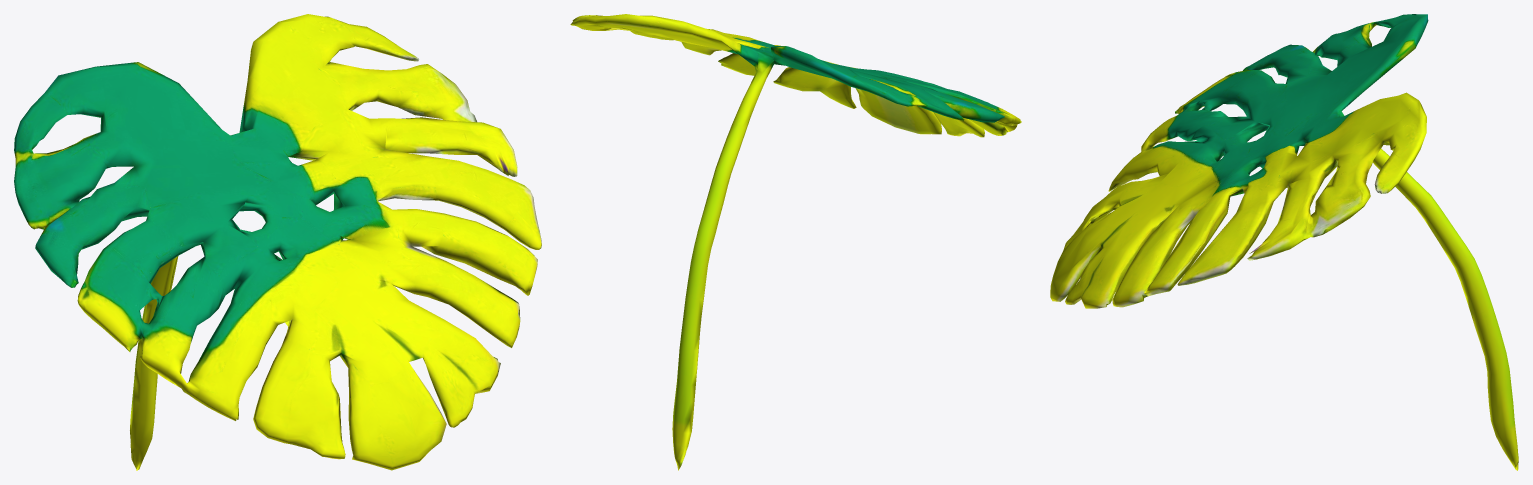
The model's file is mon_variegata_gold_v1.glb.
3 views of the same model, side by side, from view 1: azimuth 30°, elevation 25°; view 2: azimuth 150°, elevation 25°; view 3: azimuth 270°, elevation 25° (orthographic). The views are drawn at different scales.
Size of the model in its own units: 1.99 by 1.91 by 2.
1 material, 1 textured.
